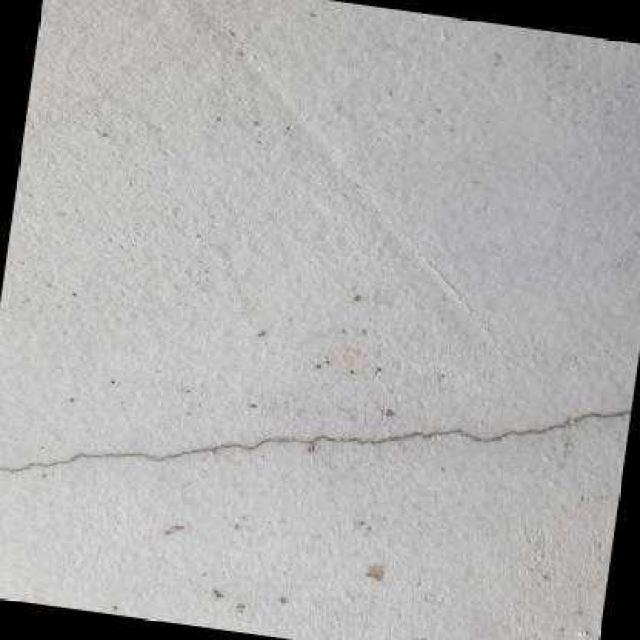D00: (0, 412, 571, 472), (572, 407, 631, 421)
